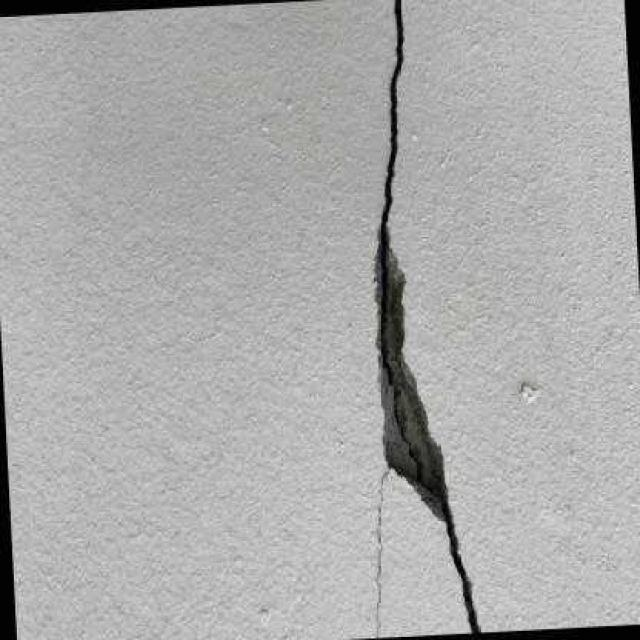D00: (373, 0, 481, 638)
